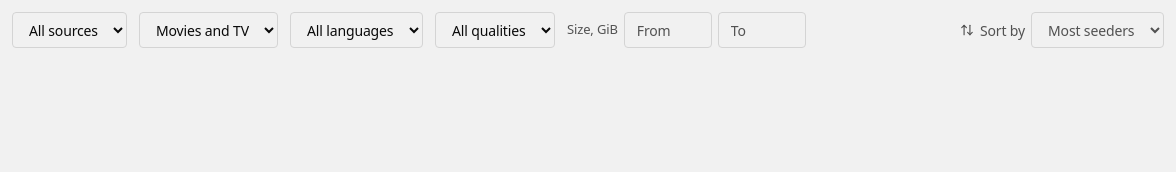
Scenario: ReleaseFilters › says so under the row when a size is not one, and marks that box
Type "big" into the field named "Largest size in GiB" at [762, 30], box [718,12,806,48]
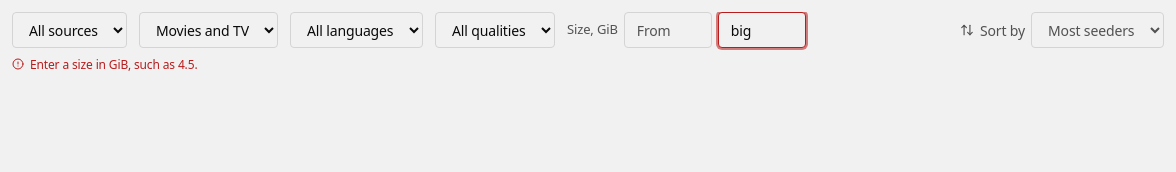
expect the message reads "Enter a size in GiB, such as 4.5.": met, box [30,56,198,73]
